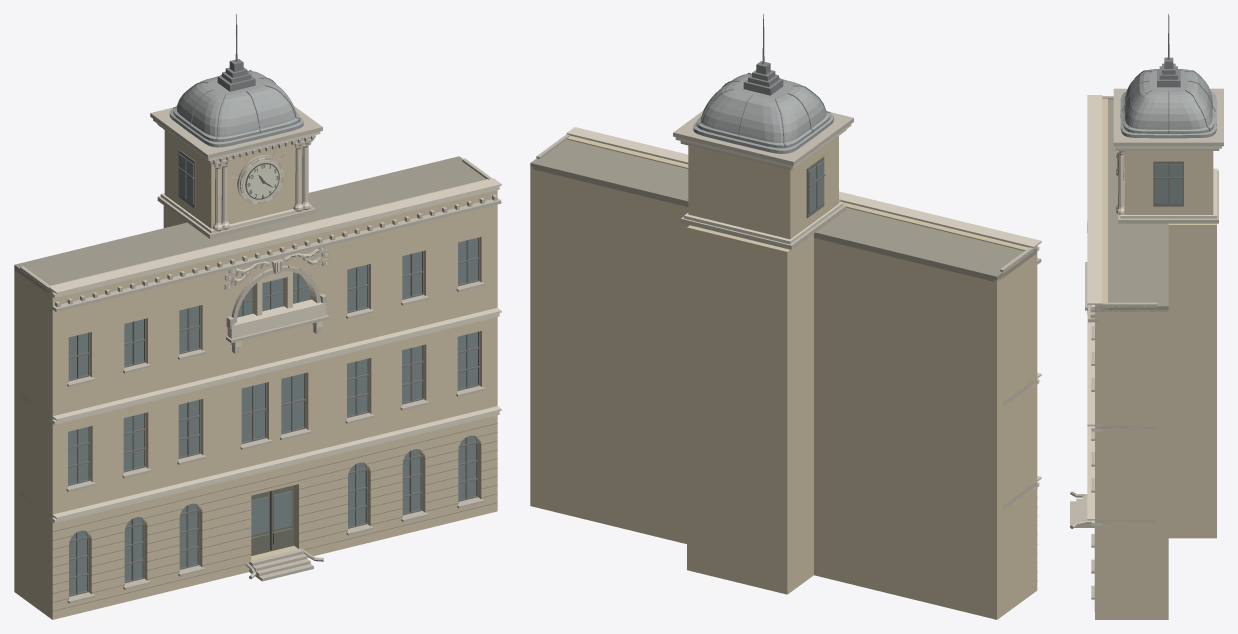
File: huangpu-nanshi-telephone-exchange-lod.glb
3 renders of one model, left to right at view 1: azimuth 30°, elevation 25°; view 2: azimuth 150°, elevation 25°; view 3: azimuth 270°, elevation 25°, orthographic. The views are drawn at different scales.
Parts seen in each view (by area): view 1: 上海电话局南市总局中华路钟楼立面; view 2: 上海电话局南市总局中华路钟楼立面; view 3: 上海电话局南市总局中华路钟楼立面.
Part boxes in pixels (bbox=[...]): 上海电话局南市总局中华路钟楼立面: bbox=[14, 14, 501, 619]; 上海电话局南市总局中华路钟楼立面: bbox=[530, 14, 1041, 619]; 上海电话局南市总局中华路钟楼立面: bbox=[1070, 14, 1223, 619].
Bounding box in the file's own units: 22.12 × 24.86 × 6.9.
